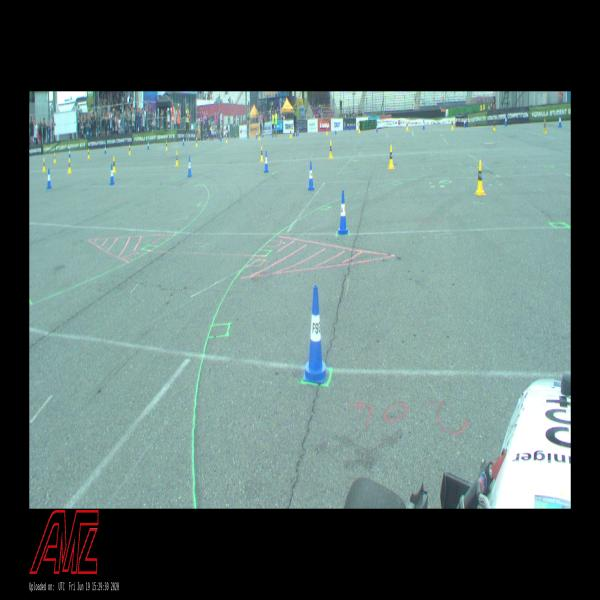blue_cone: (304, 285, 328, 383), (338, 190, 348, 235), (308, 162, 314, 190), (264, 151, 269, 172), (110, 163, 115, 184), (47, 169, 52, 189), (188, 157, 192, 176), (558, 114, 562, 127), (104, 144, 107, 153), (334, 126, 337, 134), (464, 117, 466, 128), (505, 115, 507, 126), (148, 140, 150, 150), (422, 120, 424, 130), (69, 148, 71, 157), (183, 136, 184, 146)
yellow_cone: (475, 160, 485, 195), (388, 145, 394, 169), (329, 140, 333, 159), (260, 146, 264, 162), (68, 158, 72, 174), (175, 151, 179, 166), (543, 119, 547, 133), (42, 158, 46, 171), (113, 156, 116, 173), (493, 119, 496, 131), (451, 119, 454, 130), (54, 152, 56, 163), (290, 127, 292, 138), (88, 149, 90, 159), (129, 144, 131, 154), (196, 137, 198, 147), (226, 134, 228, 144), (326, 126, 328, 136), (358, 123, 360, 133), (406, 120, 408, 130), (166, 141, 168, 150), (259, 131, 260, 140)
